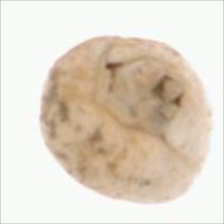L3: (103, 59, 184, 131)
L4: (38, 35, 210, 204)
